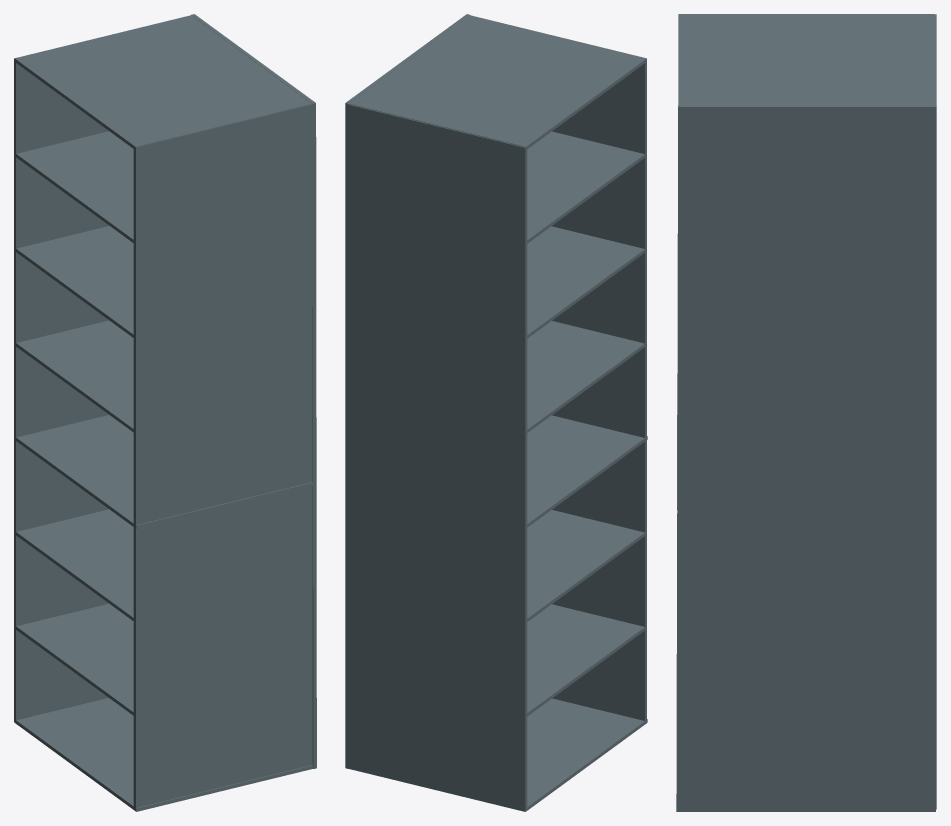
File: Fichero.fbx
3 views of the same model, side by side, from view 1: azimuth 30°, elevation 25°; view 2: azimuth 150°, elevation 25°; view 3: azimuth 270°, elevation 25° (orthographic). The views are drawn at different scales.
Parts seen in each view (by area): view 1: Plane.017; view 2: Plane.017; view 3: Plane.017.
Boxes of the visible parts, x1,y1,x2,y2 form: Plane.017: (14, 14, 316, 811); Plane.017: (345, 14, 647, 811); Plane.017: (676, 14, 936, 811).
Size of the model in its own units: 216 by 762 by 255.
